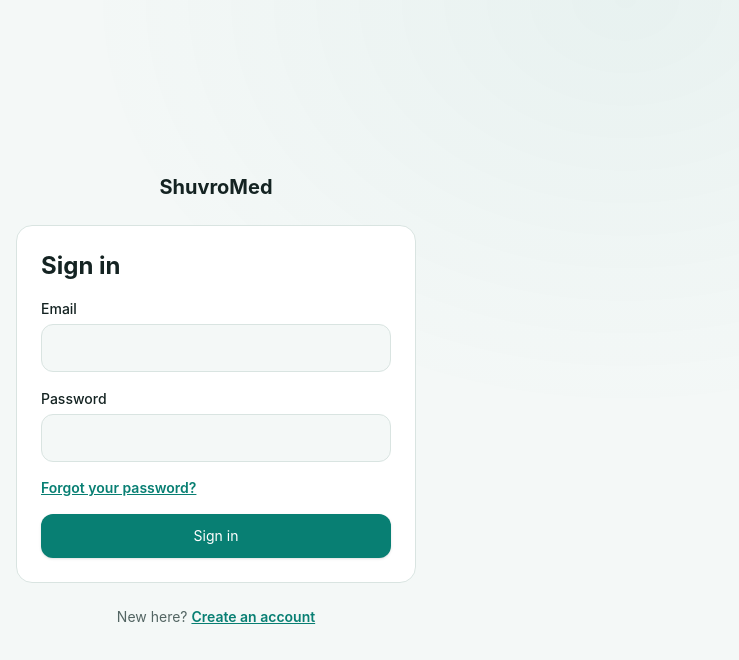
Scenario: sign in › shows a generic error for a wrong password and stays on the form
In the field labelled "Email": (216, 348) [41,324,391,372], type "me@test.local"
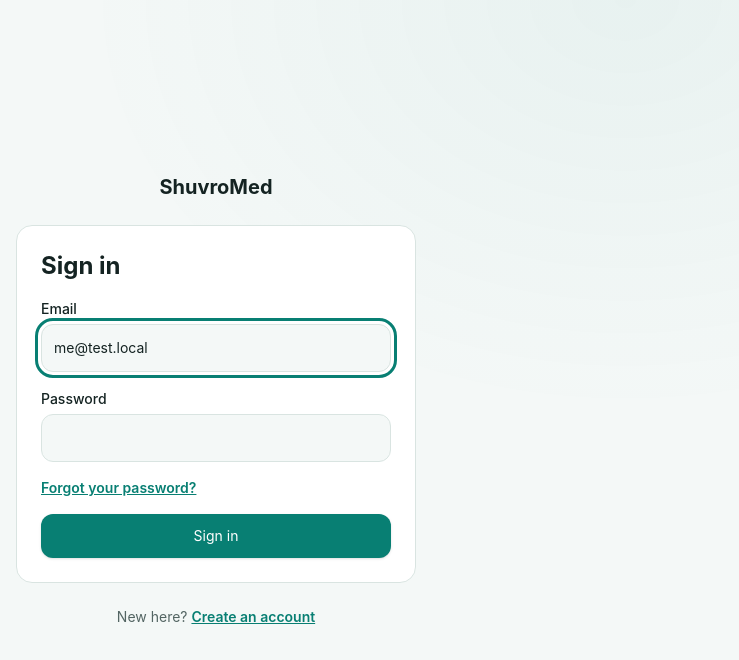
In the password field labelled "Password": (216, 438) [41,414,391,462], type "wrong-password"
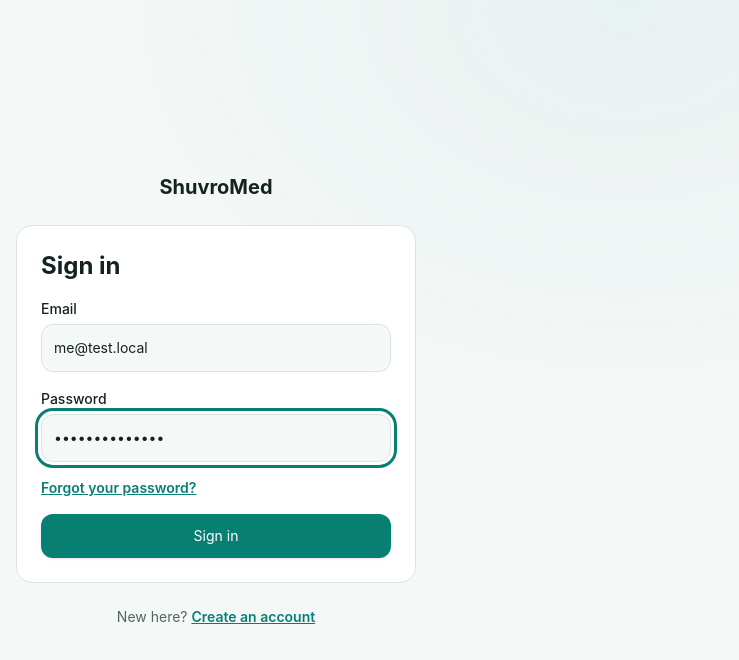
Click the button "Sign in": (216, 536) [41,514,391,558]
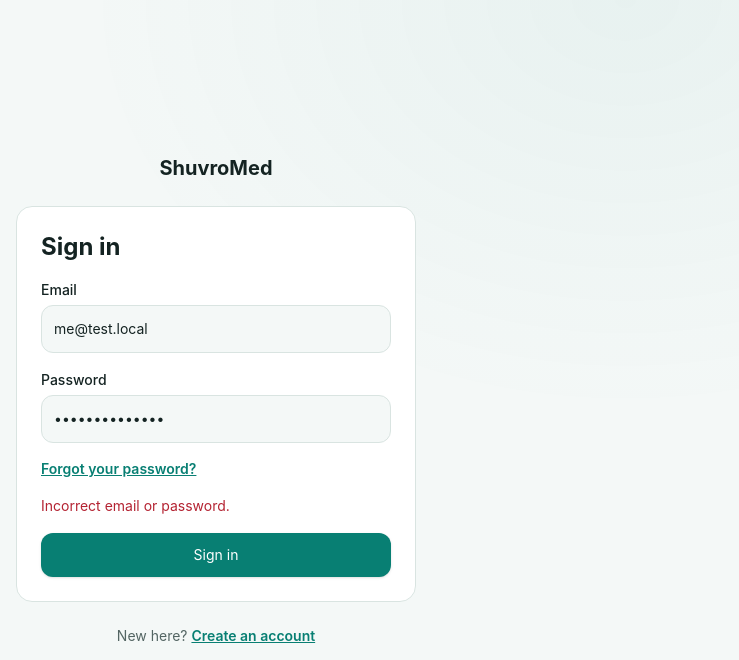
Expected: the heading "Sign in" is shown, [41,232,120,262]
Result: the message reads "Incorrect email or password." at [41,497,230,514]
